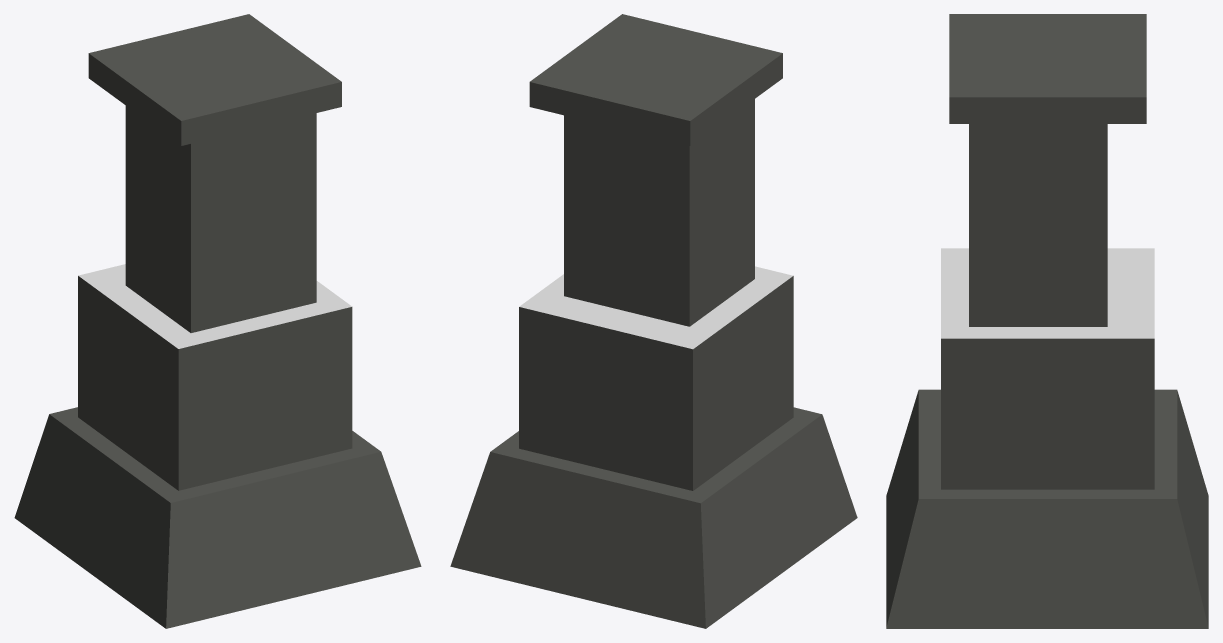
Rendered from Tower.fbx.
The picture shows the model from 3 angles, left to right: view 1: azimuth 30°, elevation 25°; view 2: azimuth 150°, elevation 25°; view 3: azimuth 270°, elevation 25°; orthographic projection. The views are drawn at different scales.
Parts seen in each view (by area): view 1: Weapon3; view 2: Weapon3; view 3: Weapon3.
Boxes of the visible parts, bbox=[...] form: Weapon3: bbox=[14, 14, 421, 628]; Weapon3: bbox=[450, 14, 857, 628]; Weapon3: bbox=[886, 14, 1208, 628].
Bounding box in the file's own units: 72.82 × 129 × 74.85.
